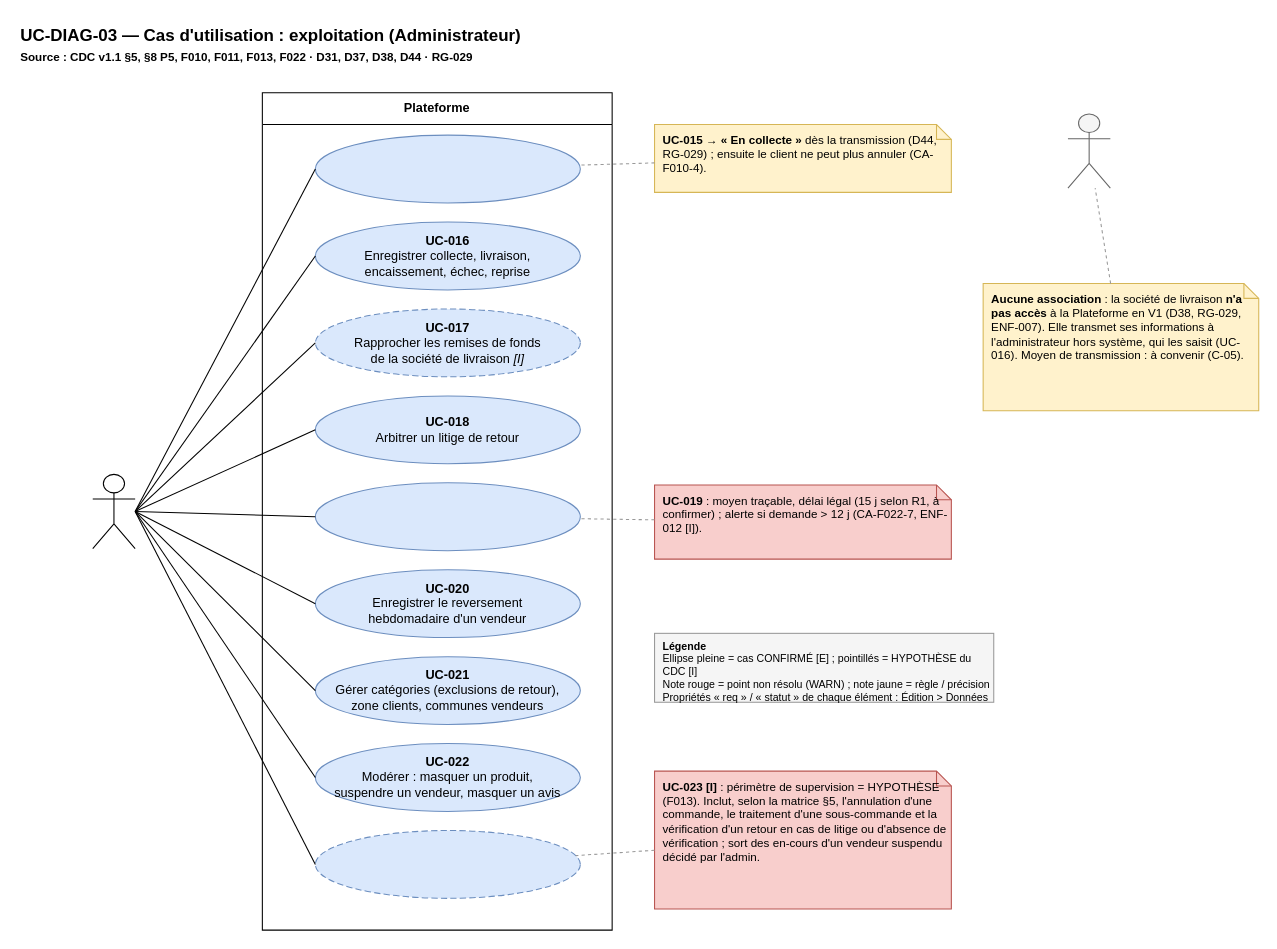
Some shapes in this 1277 by 949 pixel diagram are drawn without their labels. The centre of each missing label's shape, as x and y in pixels:
ACT-004 Administrateur: the point at 113,511
ACT-005 Société de livraison «externe»: the point at 1088,150
UC-015 Transmettre les commandes prêtes à la société de livraison: the point at 447,168
UC-019 Enregistrer un remboursement client: the point at 447,516
UC-023 Superviser vendeurs, produits, commandes, retours, montants [I]: the point at 447,863
